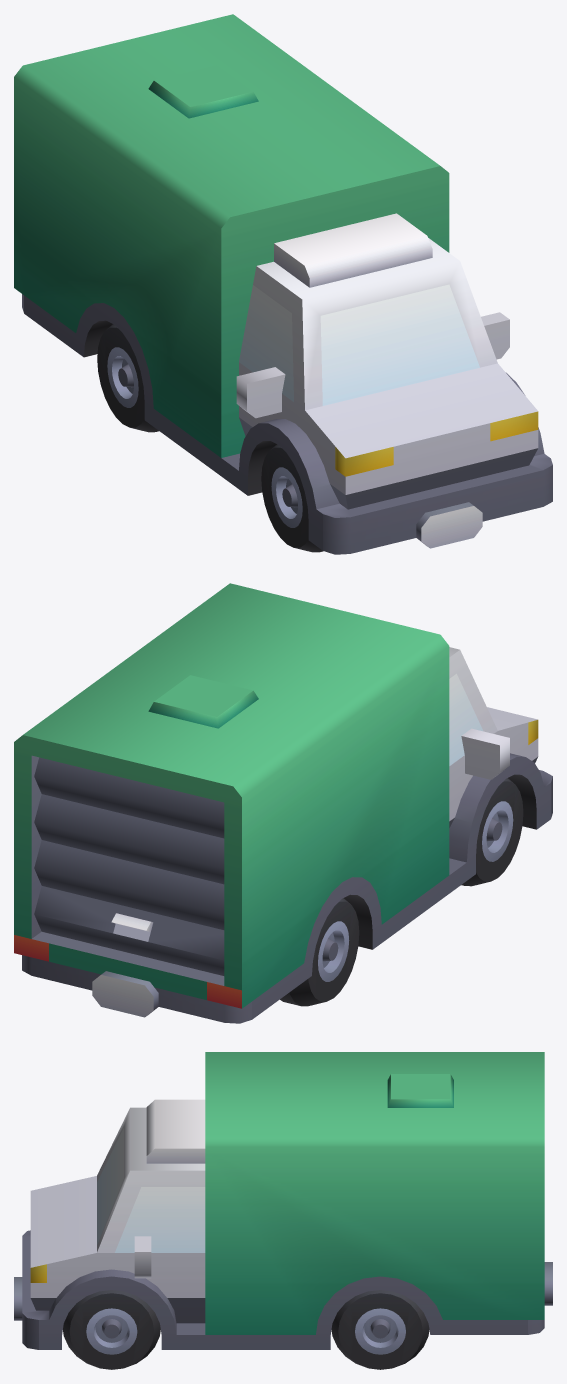
File: budbil.glb
3 views of the same model, one above another, from view 1: azimuth 30°, elevation 25°; view 2: azimuth 150°, elevation 25°; view 3: azimuth 270°, elevation 25° (orthographic). The views are drawn at different scales.
Parts seen in each view (by area): view 1: body, wheel-front-right, wheel-back-right; view 2: body, door, wheel-back-right, wheel-front-right; view 3: body, wheel-back-left, wheel-front-left.
Boxes of the visible parts, x1,y1,x2,y2 form: body: [14, 14, 552, 554]; wheel-front-right: [261, 444, 323, 552]; wheel-back-right: [97, 324, 158, 432]; body: [14, 583, 552, 1023]; door: [34, 757, 224, 975]; wheel-back-right: [280, 898, 359, 1006]; wheel-front-right: [461, 778, 523, 886]; body: [14, 1052, 552, 1349]; wheel-back-left: [331, 1290, 429, 1369]; wheel-front-left: [63, 1290, 160, 1369].
Bounding box in the file's own units: 1.5 × 1.65 × 3.25.
1 material, 1 textured.
